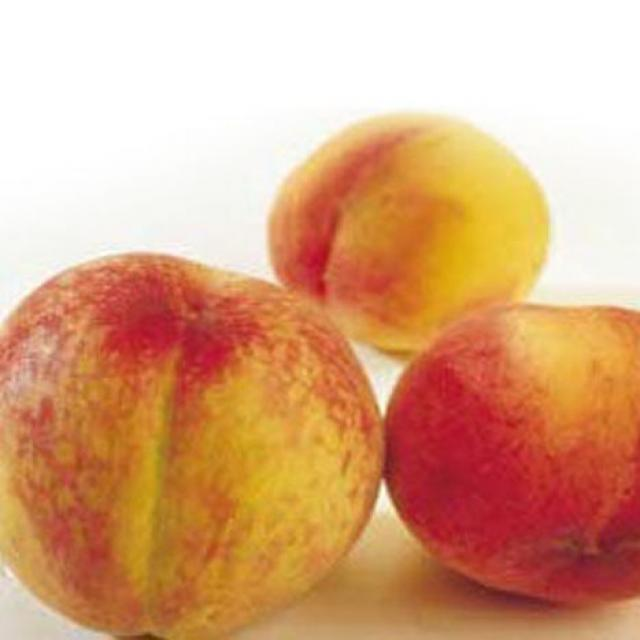peach: (268, 105, 546, 348)
